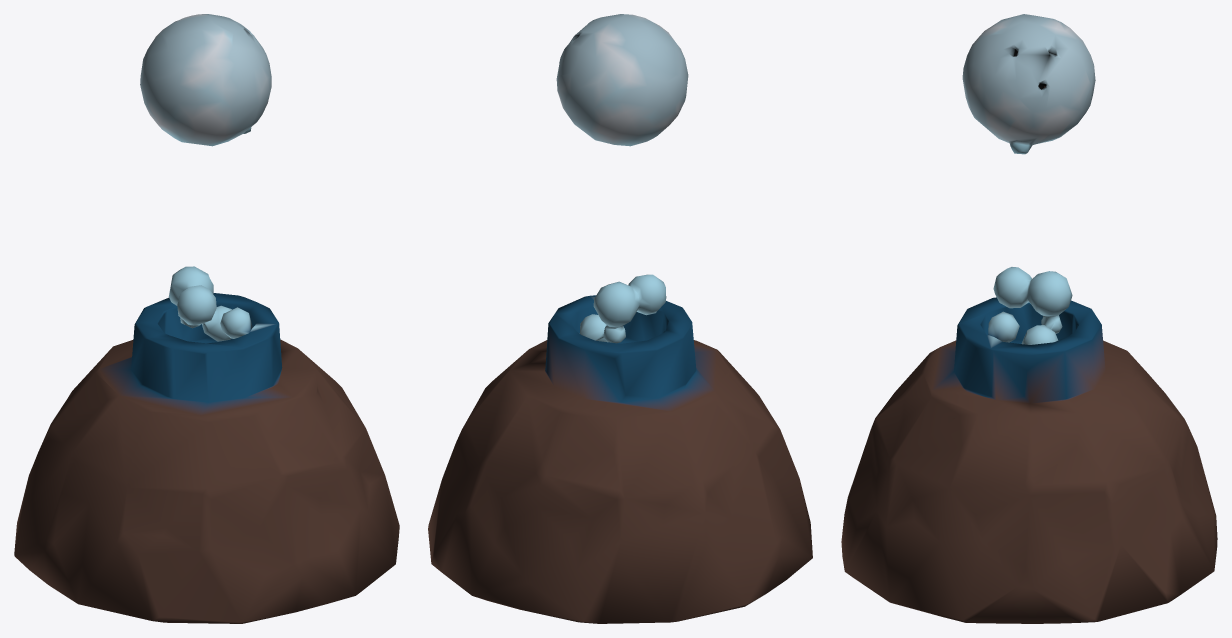
File: gen3d-bubble-vent-lod1.glb
The picture shows the model from 3 angles, left to right: view 1: azimuth 30°, elevation 25°; view 2: azimuth 150°, elevation 25°; view 3: azimuth 270°, elevation 25°; orthographic projection.
Visible parts, largest first — view 1: part_0; view 2: part_0; view 3: part_0.
Part boxes in pixels (x1=…): part_0: x1=14, y1=14, x2=399, y2=623; part_0: x1=428, y1=14, x2=812, y2=623; part_0: x1=841, y1=14, x2=1217, y2=623.
Bounding box in the file's own units: 0.6507 × 0.9997 × 0.65.
